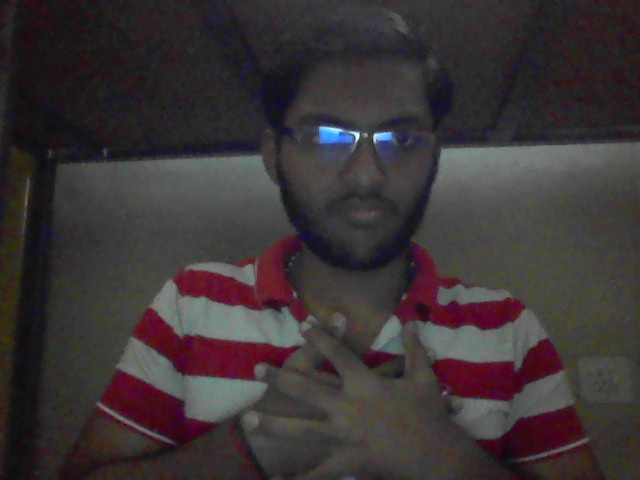Yes_Hungry: (215, 290, 498, 480)
